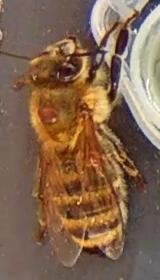varroa_mite: (31, 99, 68, 138)
